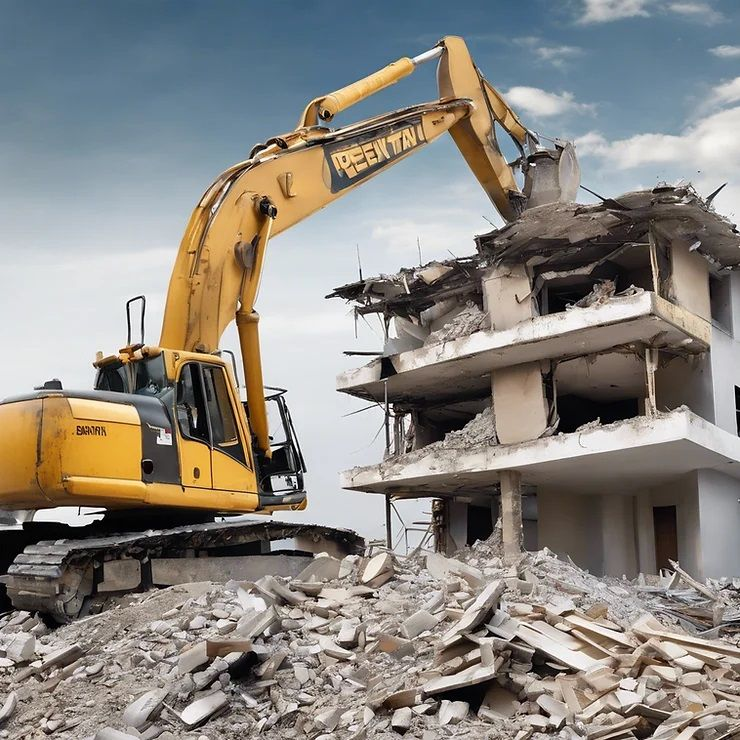excavator: (9, 21, 608, 682)
